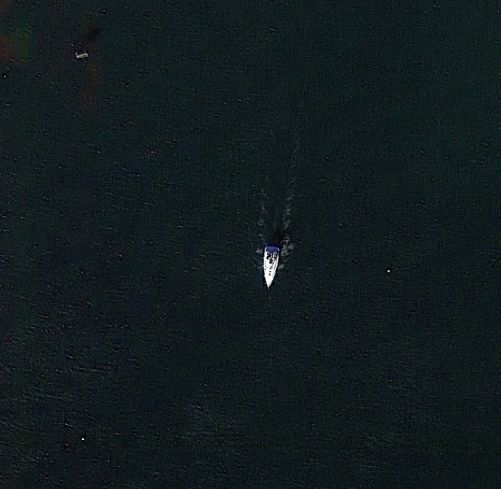boat: (260, 243, 282, 291)
